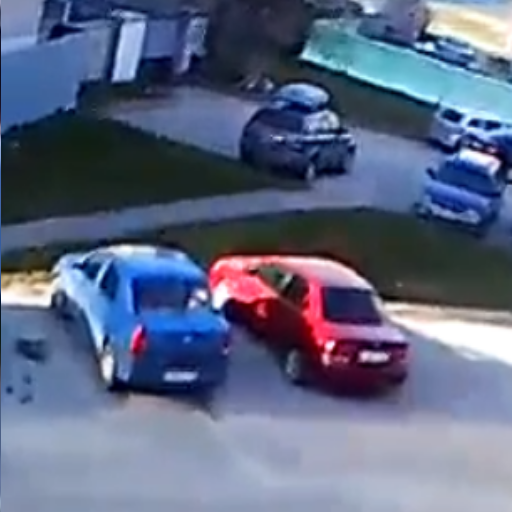Car: (209, 252, 408, 389), (51, 240, 231, 389), (239, 81, 356, 180), (416, 144, 498, 232), (425, 98, 506, 149)
